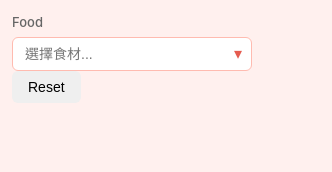
SearchableSelect › matches labels and stored values case-insensitively with surrounding whitespace
Type "  YOGURT  " into the dropdown.
click(132, 54); type("  YOGURT  ")  # box [12, 37, 252, 71]
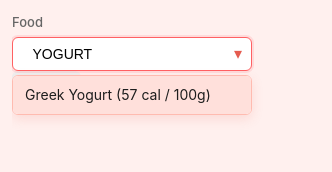
Click the option "Greek Yogurt (57 cal / 100g)".
click(132, 95)  # box [13, 76, 251, 114]
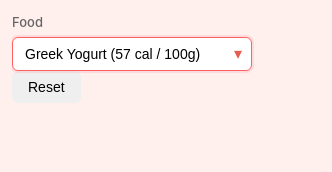
Replace the text in the dropdown with "CHICKEN" at (132, 54), box [12, 37, 252, 71]
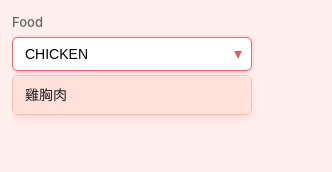
Press Enter
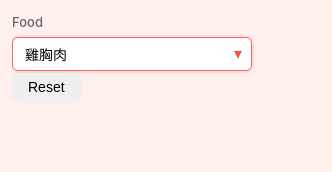
Check: the dropdown holds "雞胸肉", box [12, 37, 252, 71]
